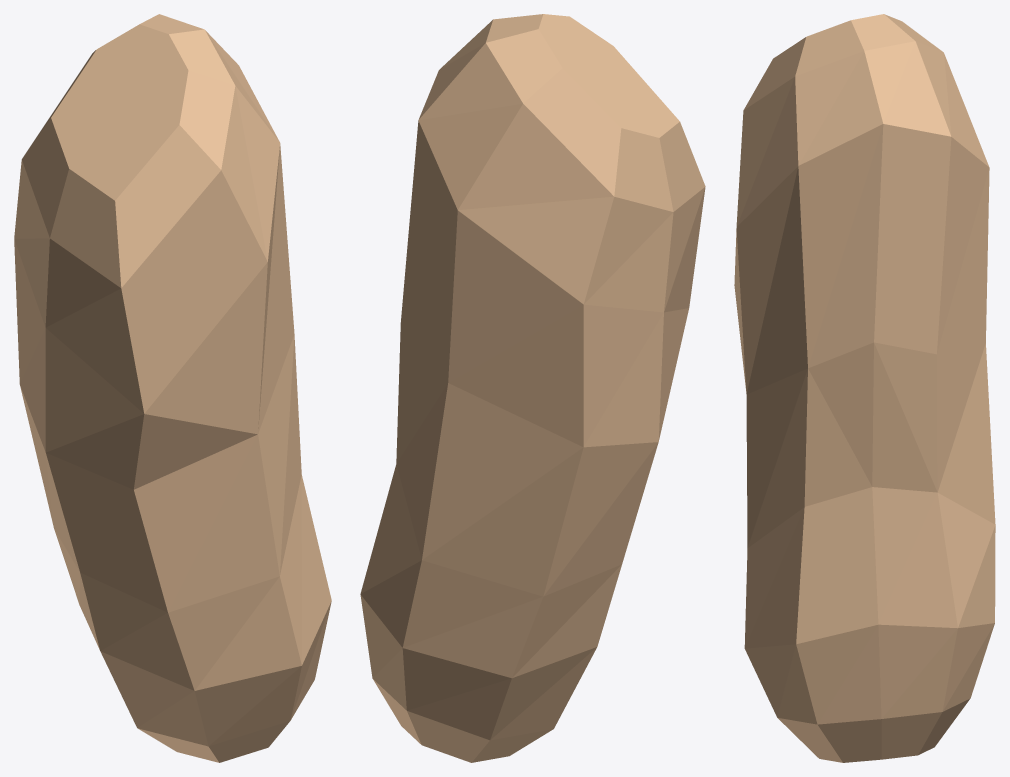
Rendered from LFing40_mesh.dae.
3 views of the same model, side by side, from view 1: azimuth 30°, elevation 25°; view 2: azimuth 150°, elevation 25°; view 3: azimuth 270°, elevation 25° (orthographic). The views are drawn at different scales.
Parts seen in each view (by area): view 1: LFing40; view 2: LFing40; view 3: LFing40.
Part boxes in pixels (bbox=[...]): LFing40: bbox=[14, 14, 331, 762]; LFing40: bbox=[360, 14, 705, 762]; LFing40: bbox=[734, 14, 995, 762].
Bounding box in the file's own units: 0.0206 × 0.0558 × 0.0186.
